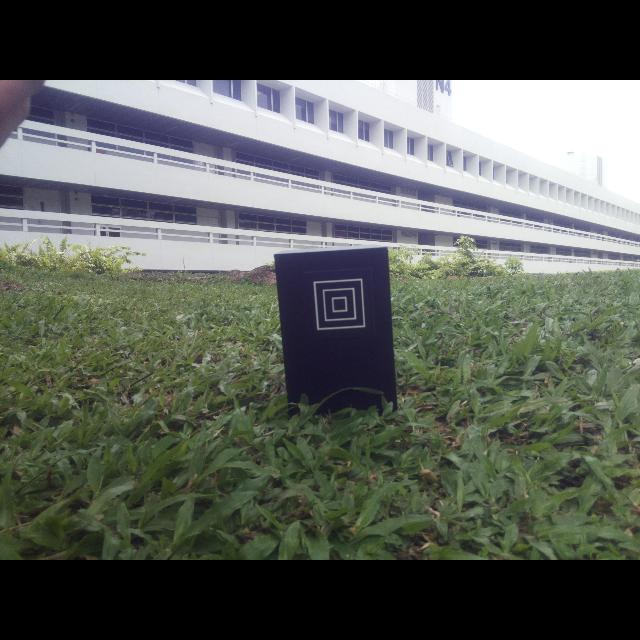BULLSEYE: (313, 278, 365, 331)
